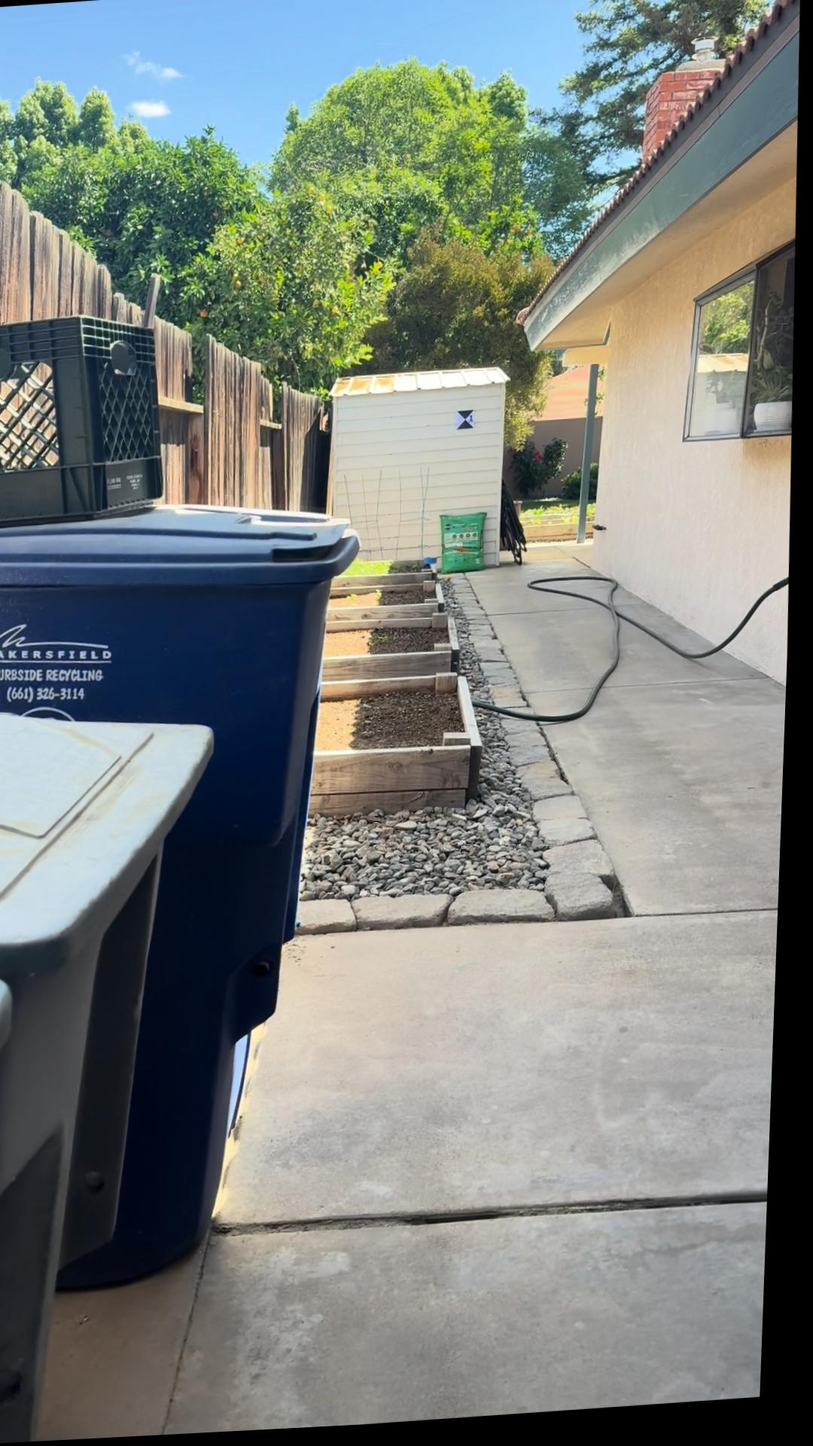target1: (456, 409, 477, 431)
